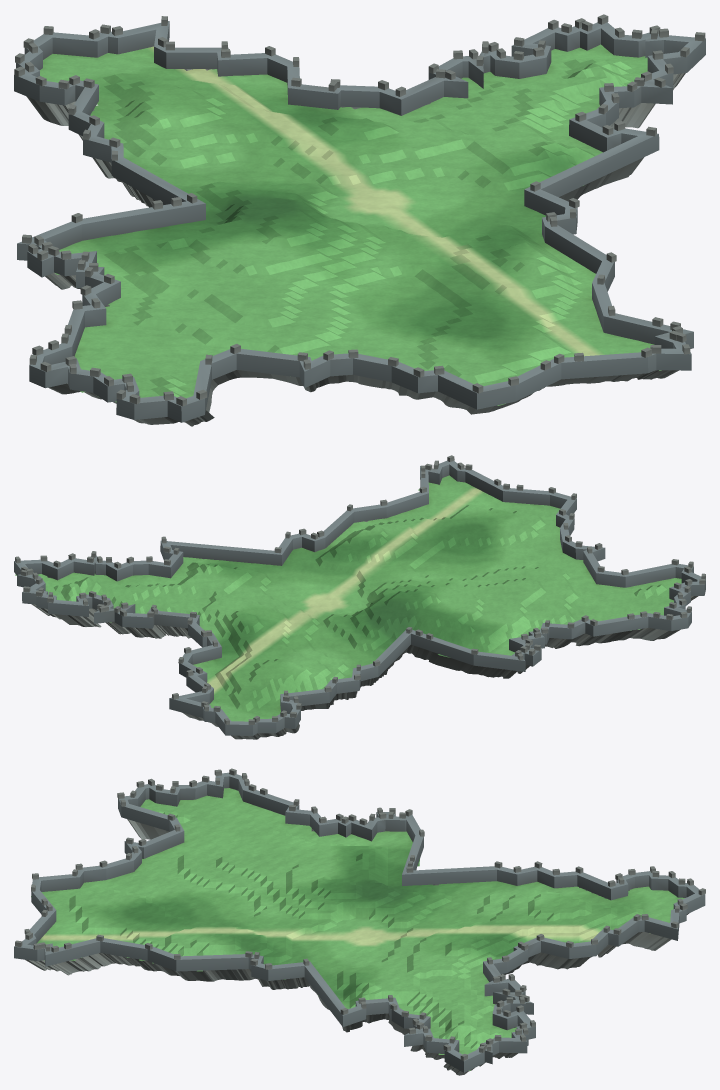
3 renders of one model, top to bottom at view 1: azimuth 30°, elevation 25°; view 2: azimuth 150°, elevation 25°; view 3: azimuth 270°, elevation 25°, orthographic. The views are drawn at different scales.
Visible parts, largest first — view 1: ground_f2bd049d; view 2: ground_f2bd049d; view 3: ground_f2bd049d.
Boxes of the visible parts, box(x1,y1,x2,y2) form: ground_f2bd049d: box(14, 14, 705, 426); ground_f2bd049d: box(14, 455, 705, 739); ground_f2bd049d: box(14, 768, 705, 1075).
Bounding box in the file's own units: 161 × 7.71 × 163.
2 materials, 1 textured.
